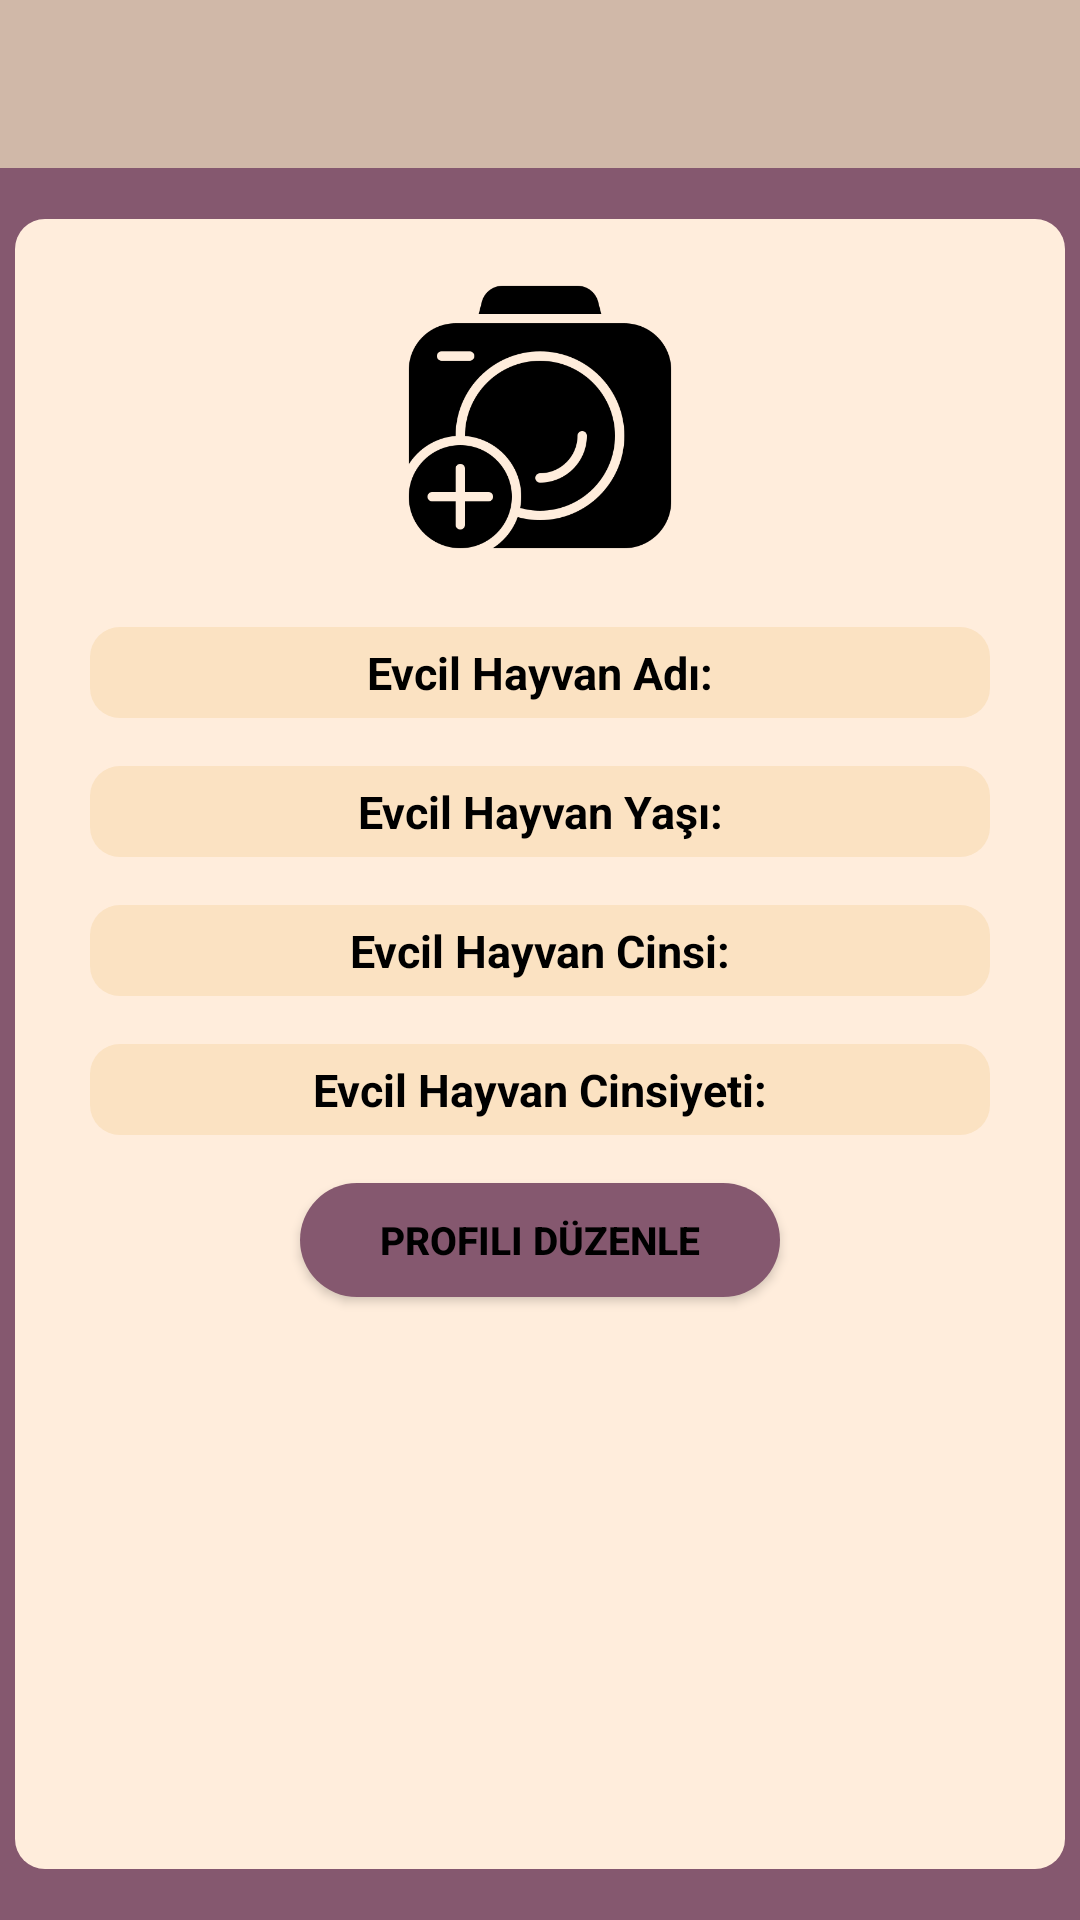

Screen size 1080w x 1920h. Icon name, then its center in pixels as point (x, y):
camera: point (540, 417)
